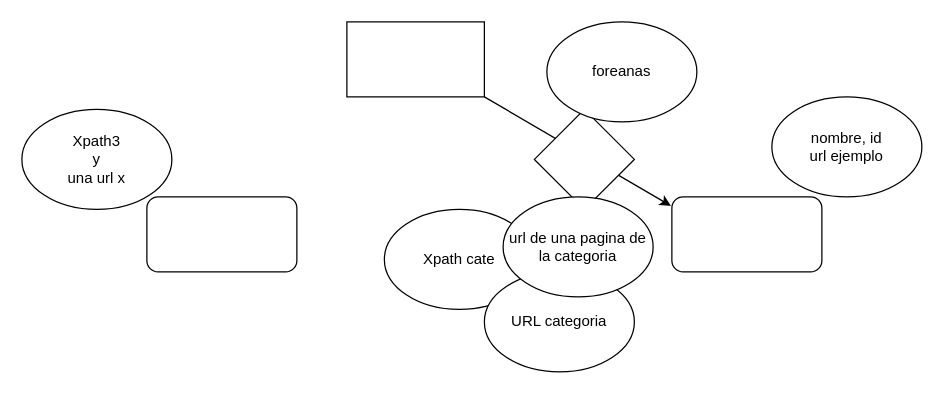
Image size: 944x394. Some labels were removed from this diagram. The centre of each missing label's shape, as x and y in pixels:
Cattegoria: point 746,234
Ejemplo: point 221,234
tener: point 583,158
